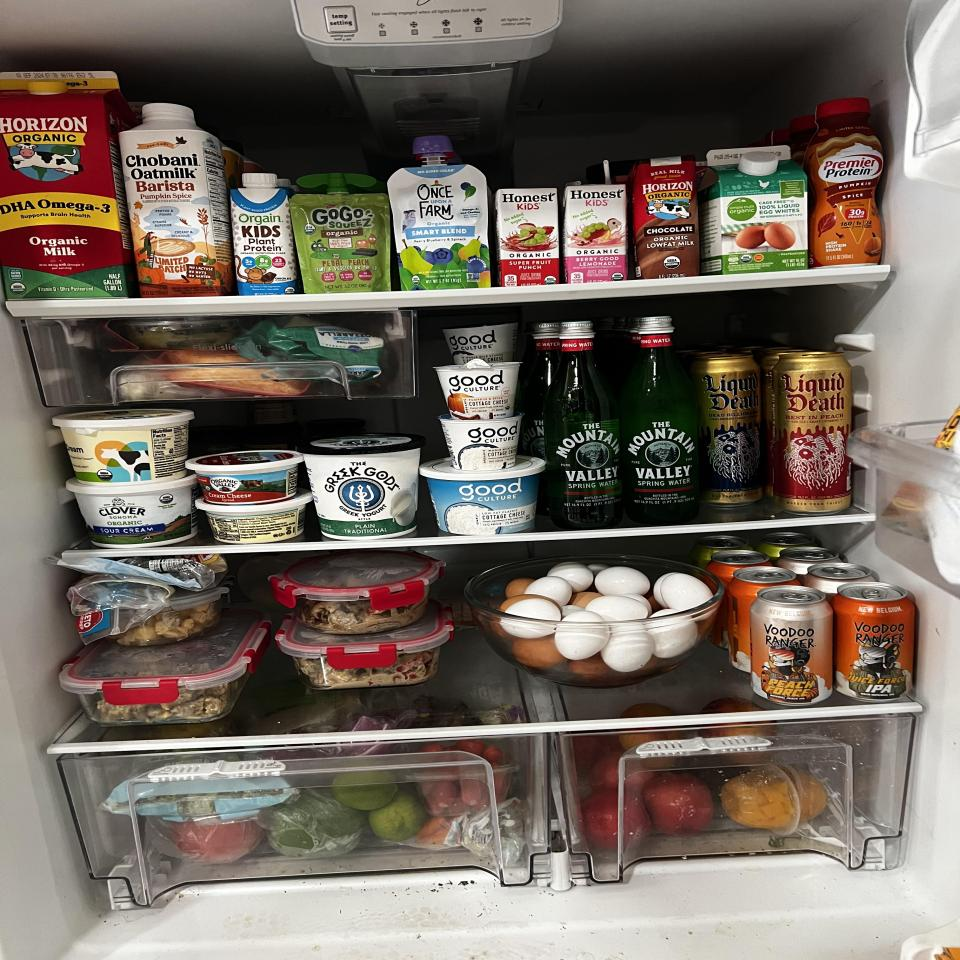Huevos: (493, 560, 710, 678)
Leche: (0, 70, 138, 302)
Manzana: (702, 697, 779, 765), (644, 773, 714, 836), (580, 789, 650, 849)
Tomate: (416, 739, 507, 816), (170, 818, 264, 862)
Yogur: (304, 438, 423, 542), (46, 409, 196, 485), (66, 473, 201, 548)
